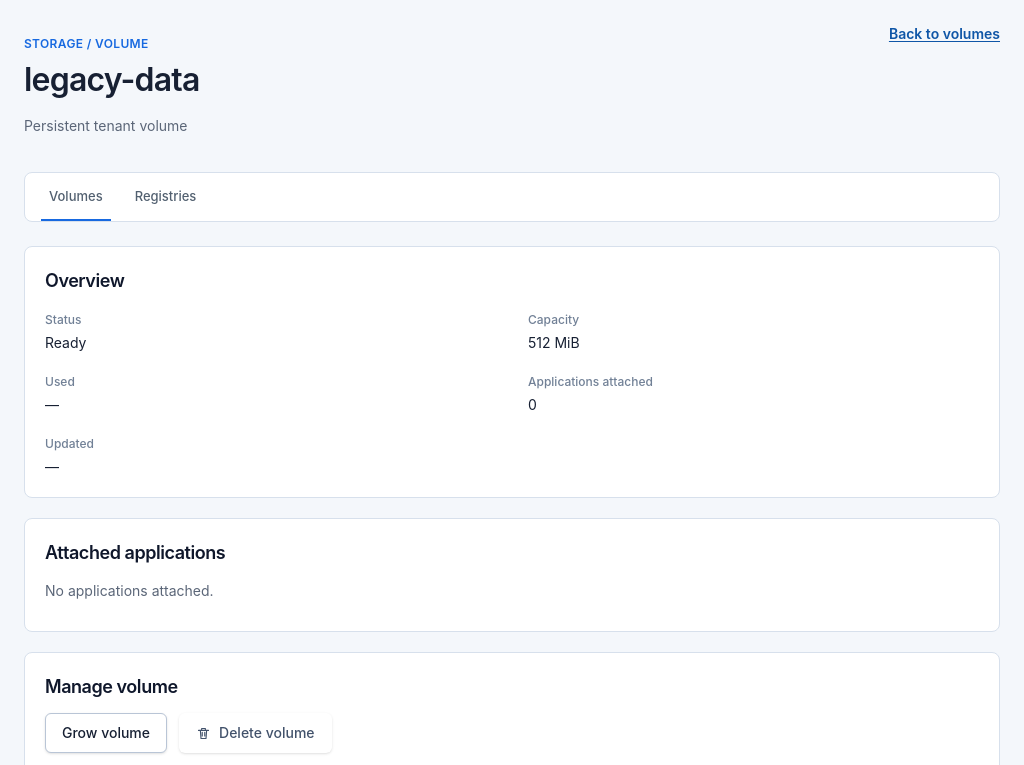
Test: does not leave volume details when asynchronous deletion fails and exposes the operation
Click the button with aria-label "Delete legacy-data".
click(255, 733)  # box [179,713,332,753]
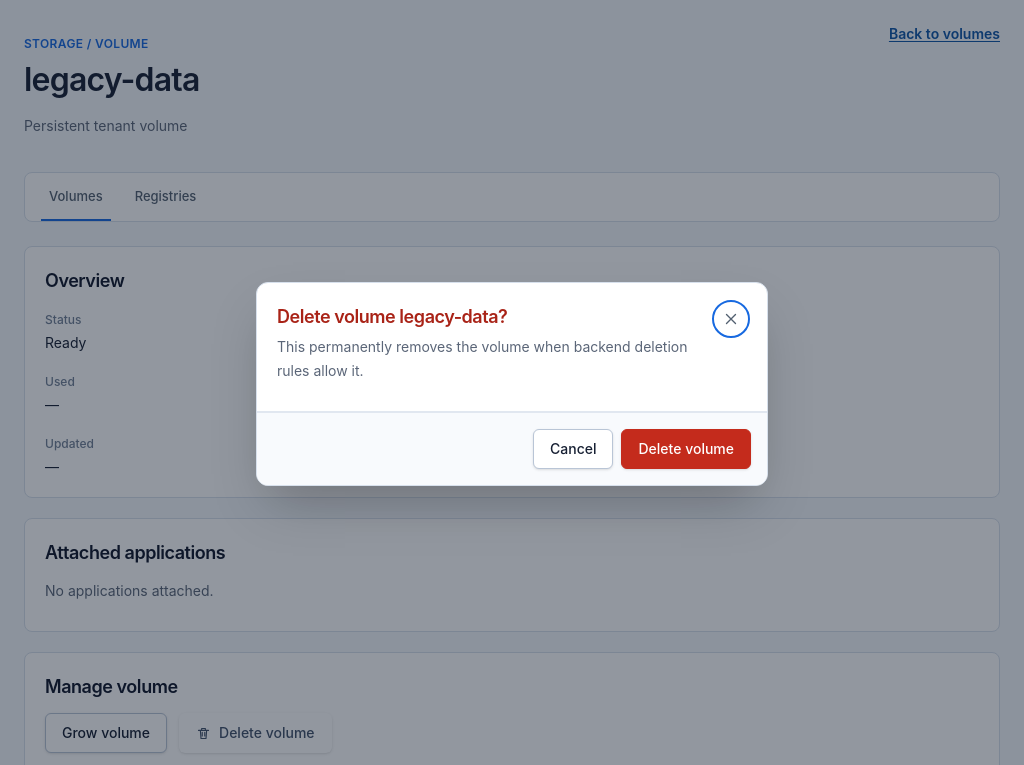
Click the button "Delete volume".
click(686, 449)  # box [622,429,751,469]
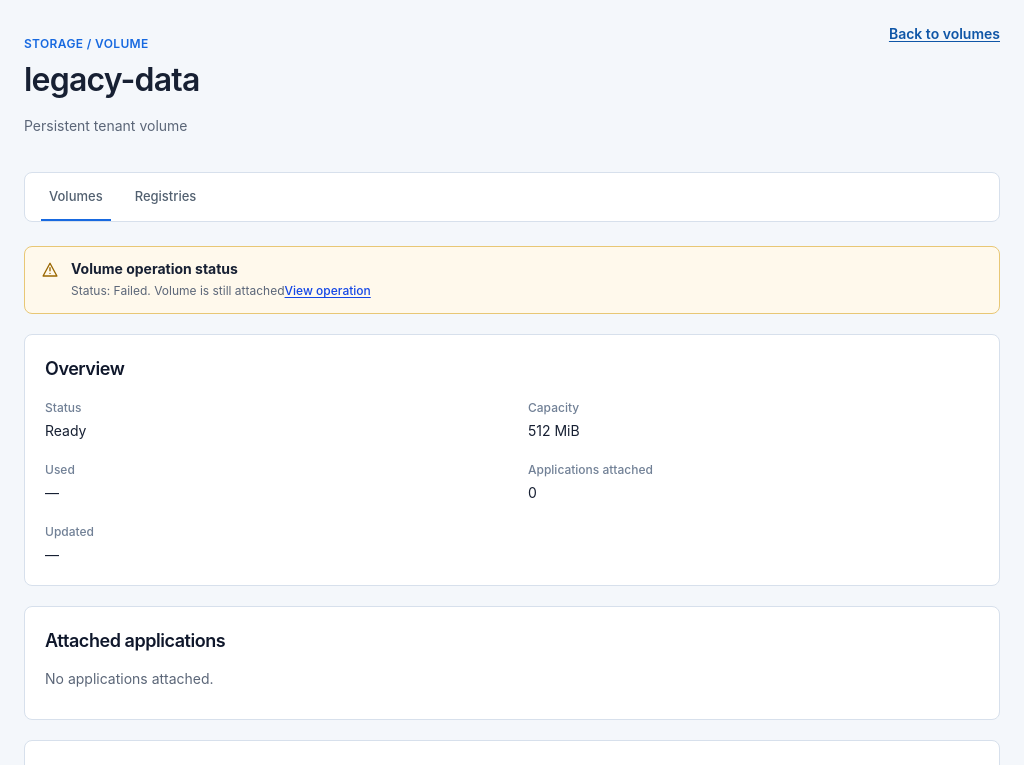
Check: the heading "legacy-data" is shown, box [24,60,200,100]
Check: the text "Volume is still attached" is shown, box [154,283,284,298]
